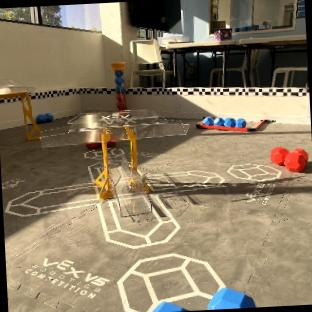V5_BLUE: (207, 287, 255, 309), (203, 116, 245, 127), (37, 113, 52, 123)
V5_RED: (270, 147, 308, 171), (85, 141, 101, 148), (108, 139, 116, 145)
